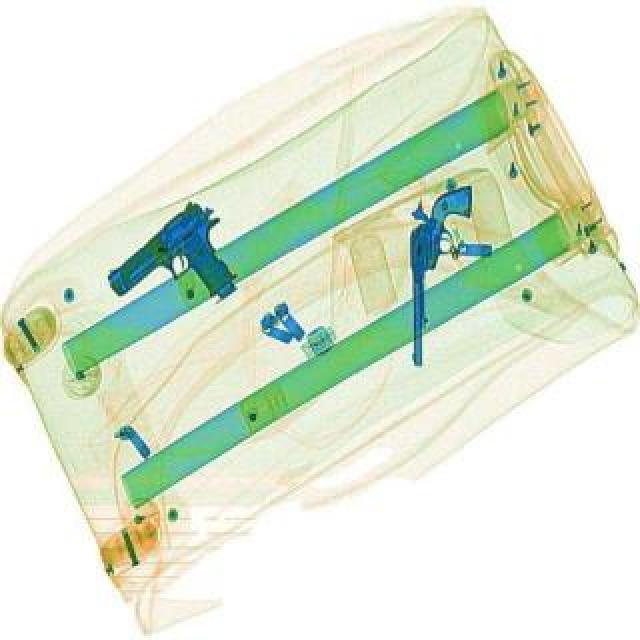gun: (98, 194, 260, 338), (408, 182, 472, 366)
